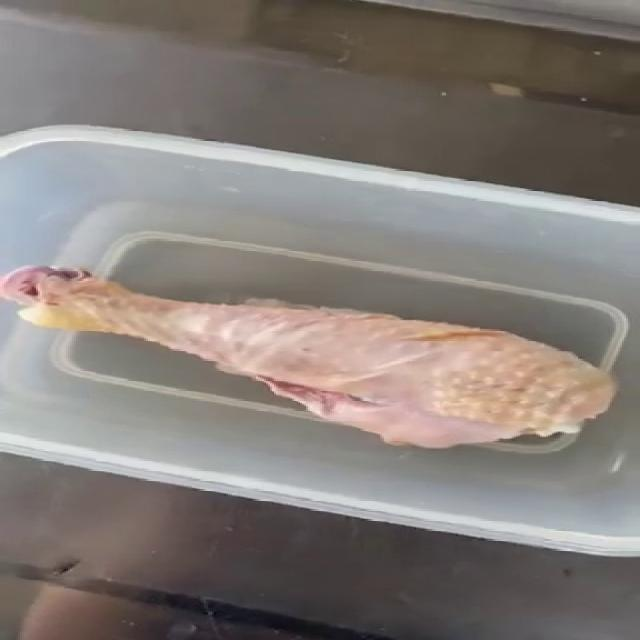chicken: (1, 262, 618, 451)
